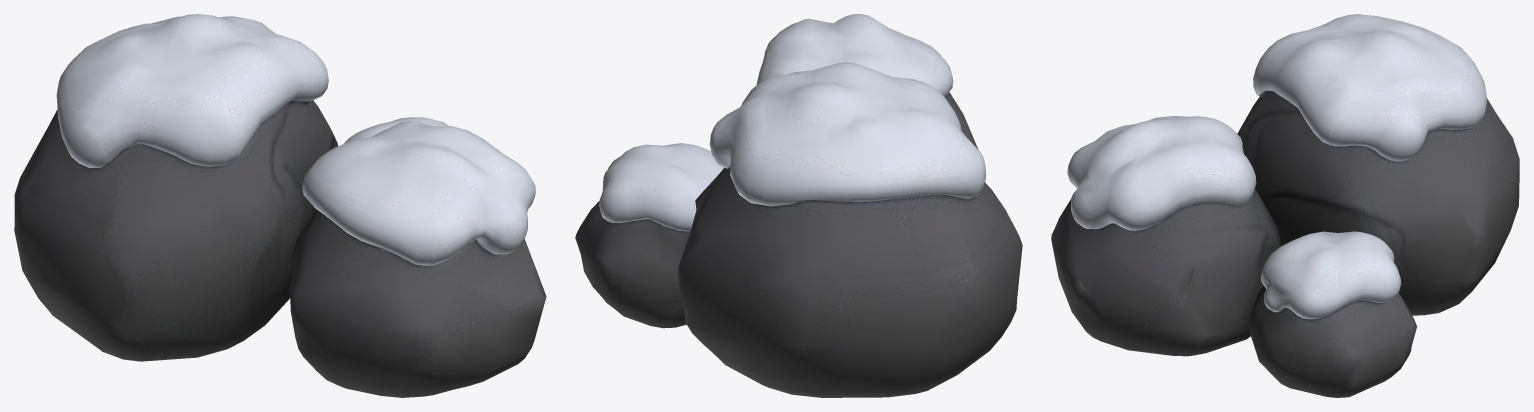
Rendered from snow-rock.glb.
3 views of the same model, side by side, from view 1: azimuth 30°, elevation 25°; view 2: azimuth 150°, elevation 25°; view 3: azimuth 270°, elevation 25° (orthographic). The views are drawn at different scales.
Visible parts, largest first — view 1: tripo_node_7c432b05-a601-4b5d-86eb-032abb91862d; view 2: tripo_node_7c432b05-a601-4b5d-86eb-032abb91862d; view 3: tripo_node_7c432b05-a601-4b5d-86eb-032abb91862d.
Part boxes in pixels (x1,y1,x2,y2): tripo_node_7c432b05-a601-4b5d-86eb-032abb91862d: (14, 14, 546, 397); tripo_node_7c432b05-a601-4b5d-86eb-032abb91862d: (575, 14, 1022, 397); tripo_node_7c432b05-a601-4b5d-86eb-032abb91862d: (1051, 14, 1519, 397).
Bounding box in the file's own units: 1.47 × 0.915 × 1.5.
Materials: 1 (1 with a texture image).
